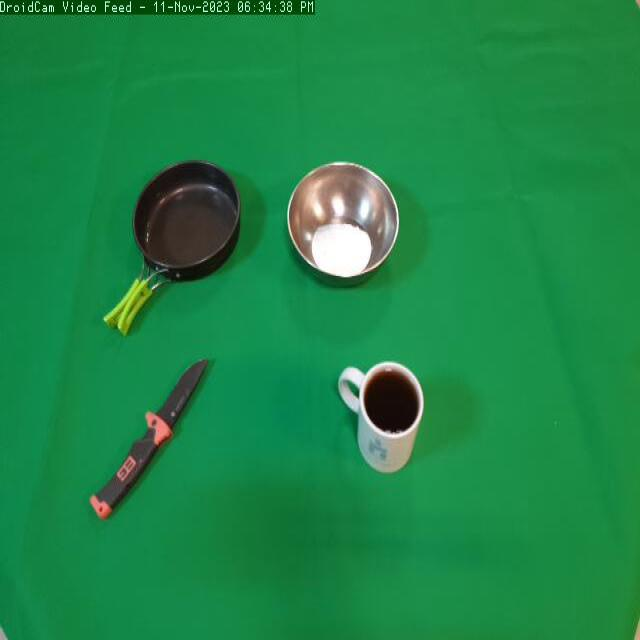bowl: (287, 160, 402, 288)
fullcup: (328, 350, 432, 495)
knife: (86, 346, 222, 536)
pan: (96, 153, 250, 339)
